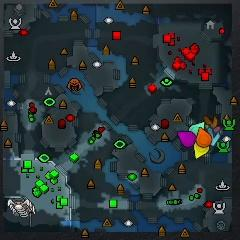p2: (189, 122, 205, 136)
p3: (177, 130, 196, 148)
p4: (194, 141, 209, 160)
x1: (212, 126, 223, 133)
x3: (207, 128, 221, 146)
x5: (203, 114, 217, 127)
